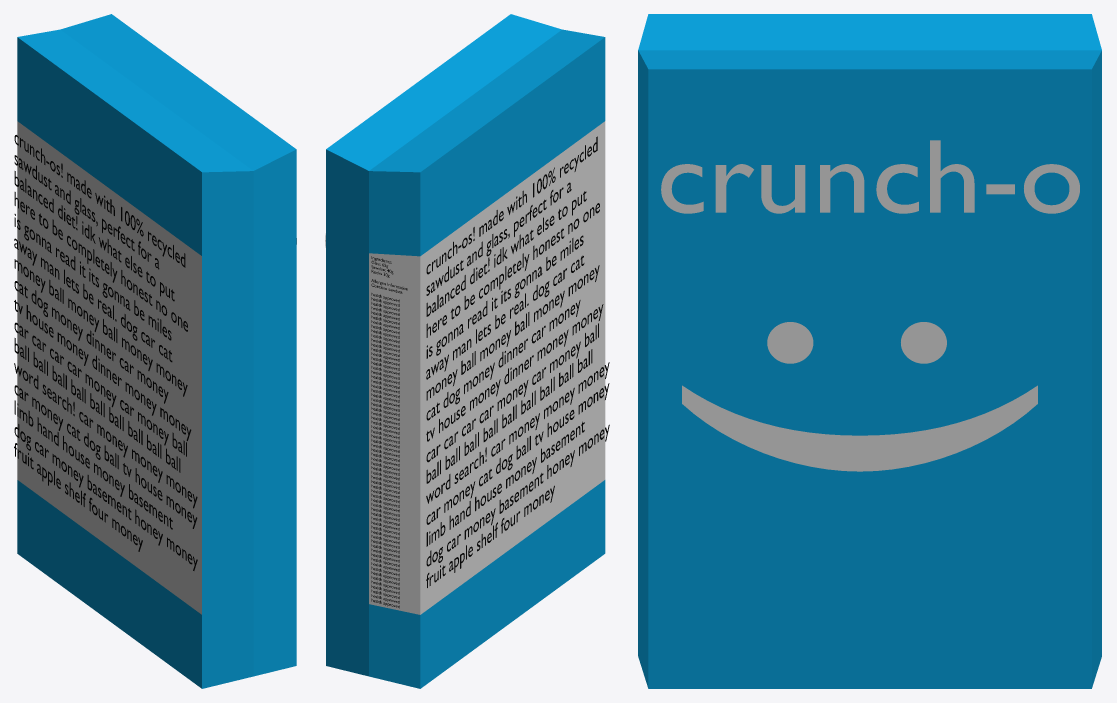
File: cereal.fbx
The picture shows the model from 3 angles, left to right: view 1: azimuth 30°, elevation 25°; view 2: azimuth 150°, elevation 25°; view 3: azimuth 270°, elevation 25°; orthographic projection. The views are drawn at different scales.
Parts seen in each view (by area): view 1: Cube, Text.001; view 2: Cube, Text.001, Text.003; view 3: Cube, Text.002, Text.
Part boxes in pixels (x1,y1,x2,y2): Cube: (17,14,296,688); Text.001: (14,135,197,570); Cube: (326,14,605,688); Text.001: (426,136,609,587); Text.003: (371,256,407,608); Cube: (638,14,1101,688); Text.002: (682,322,1037,471); Text: (661,140,1079,213).
Size of the model in its own units: 42.52 by 200 by 136.
